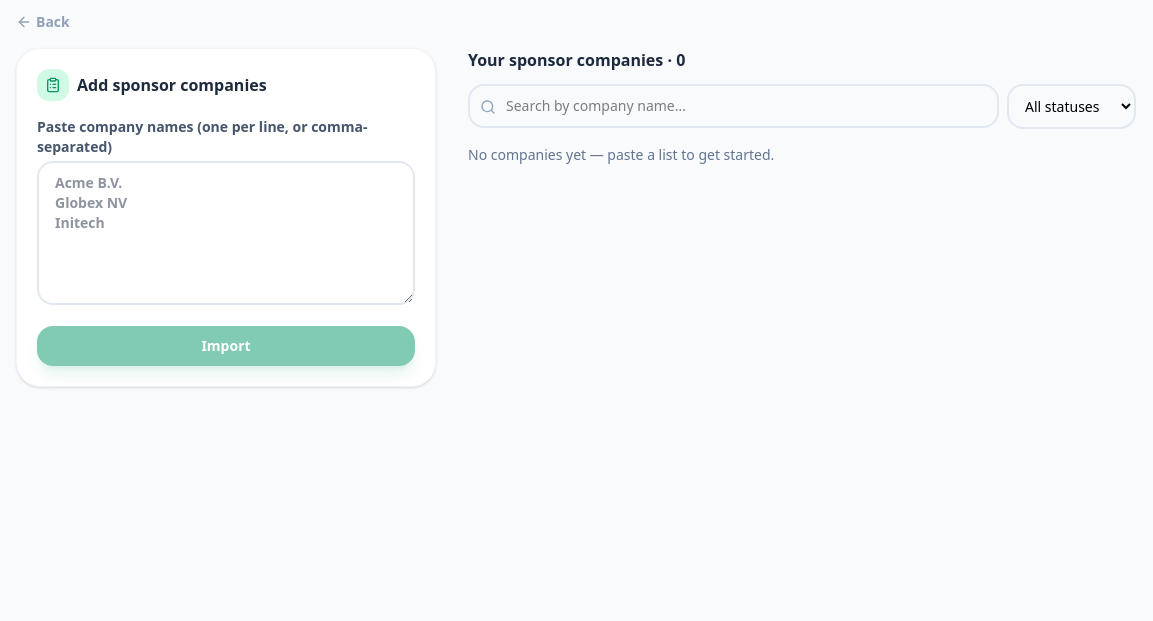
Scenario: SponsorCompanies › reloads the list after a successful import
The image size is (1153, 621).
Check: the text "No companies yet — paste a list to get started." is shown, box [468,145,774,164]
Type "Acme B.V." into the text box labelled "Paste company names (one per line, or comma-separated)" at (226, 233), box [37,161,415,305]
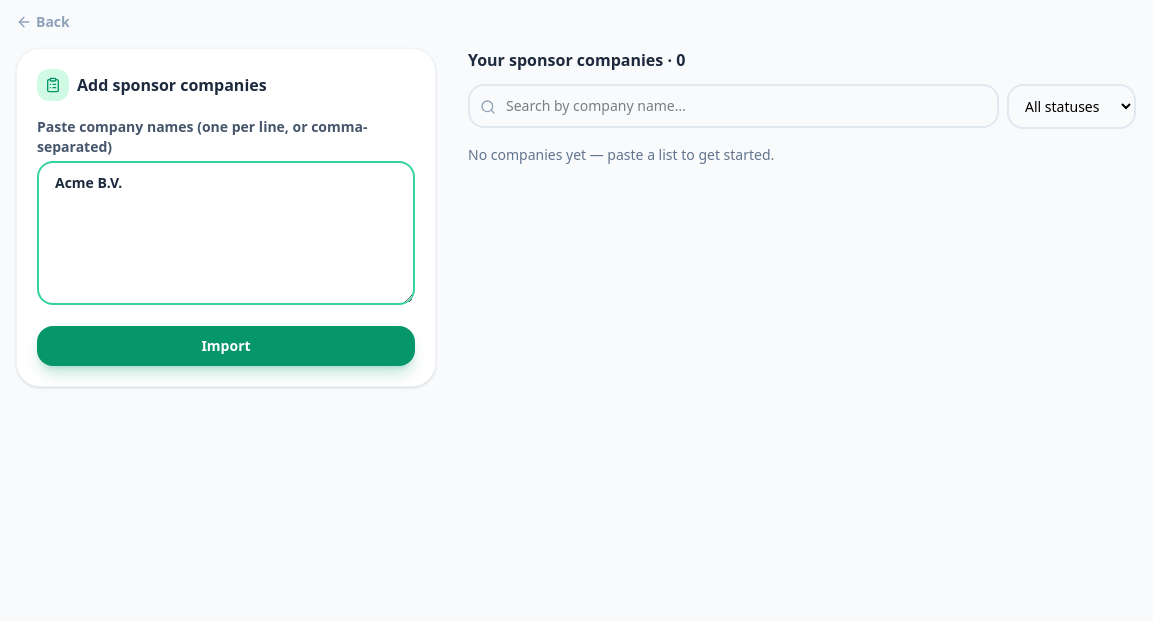
Click the button "Import" at (226, 346), box [37,326,415,366]
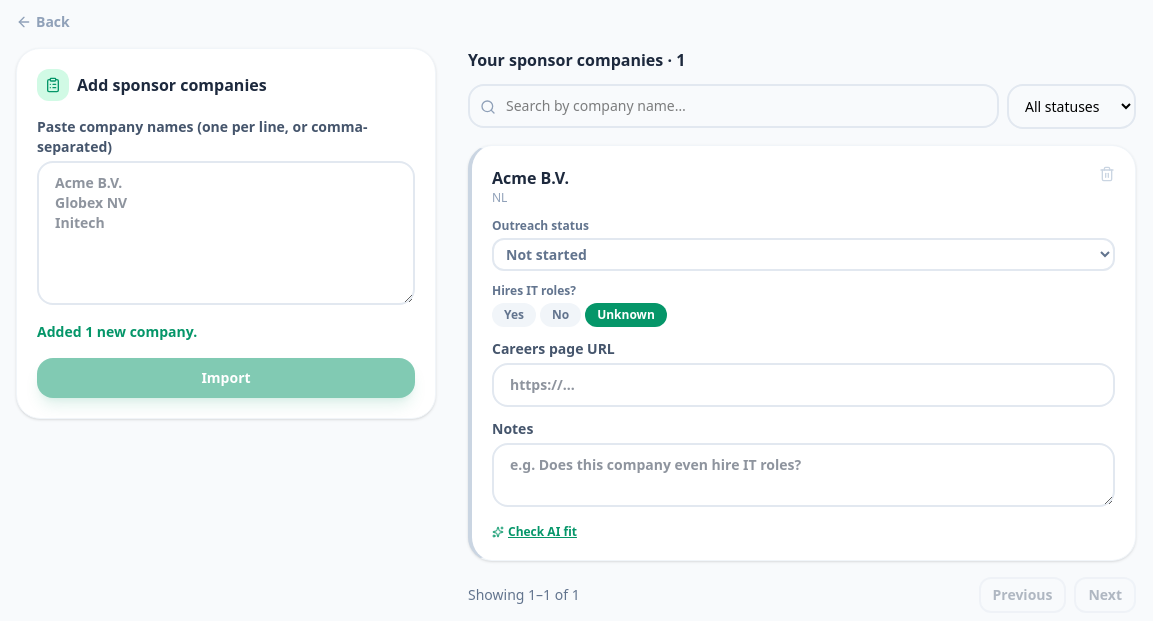
Check: the text "Acme B.V." is shown, box [492,166,569,190]
